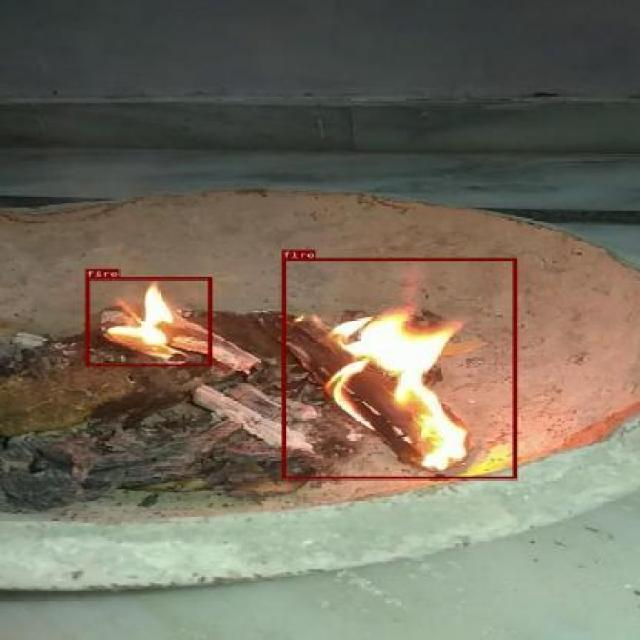Fire: (282, 256, 516, 478), (86, 277, 212, 366)
